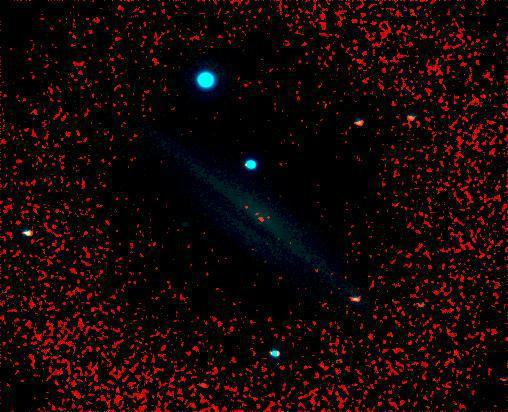star: (264, 230, 294, 260)
